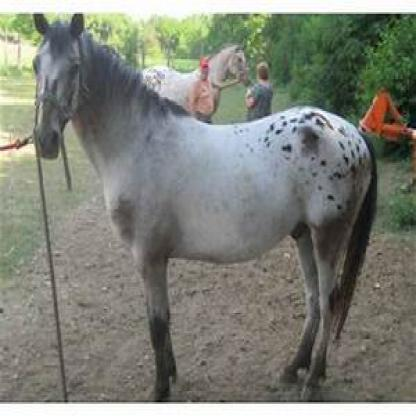horse: (30, 11, 378, 400)
